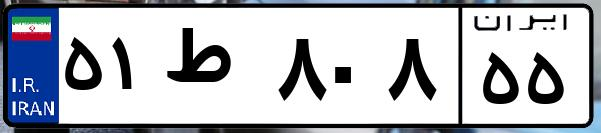0: (330, 28, 385, 110)
1: (110, 28, 158, 98)
5: (57, 26, 110, 100), (475, 38, 525, 113), (525, 38, 570, 115)
8: (270, 28, 330, 110), (385, 28, 445, 110)
ط: (158, 20, 270, 120)
